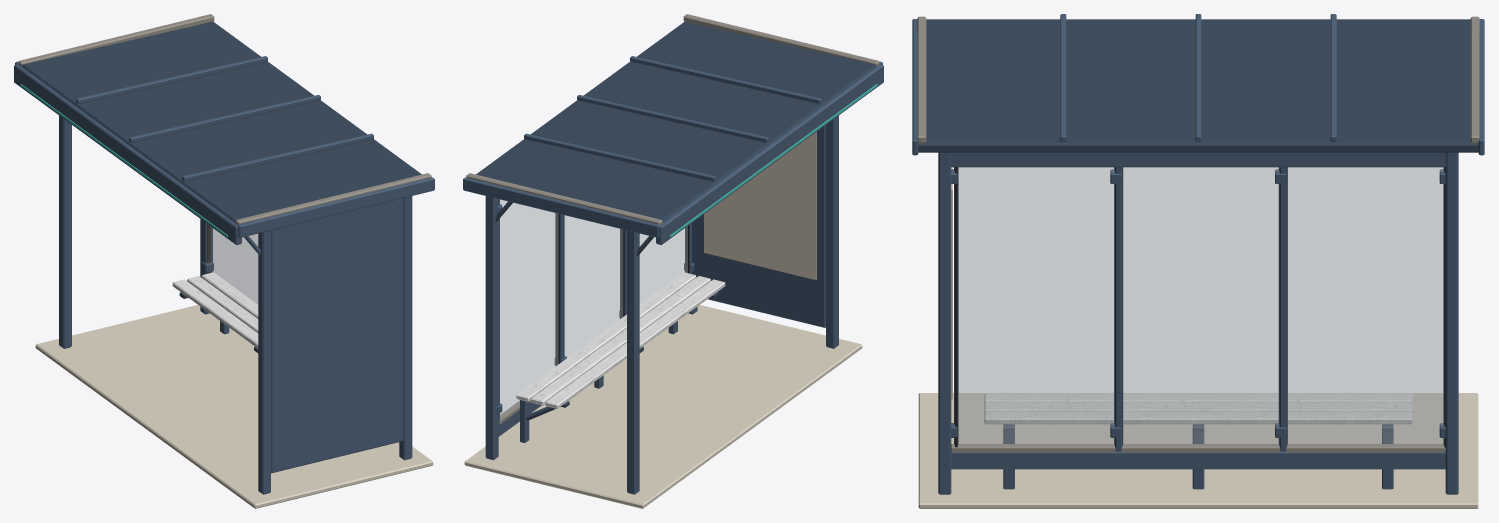
File: shelter-portable.glb
3 renders of one model, left to right at view 1: azimuth 30°, elevation 25°; view 2: azimuth 150°, elevation 25°; view 3: azimuth 270°, elevation 25°, orthographic. The views are drawn at different scales.
Visible parts, largest first — view 1: shelter.shelter.roof.folded-pan.12, shelter.shelter.end.5, shelter.shelter.slab.0, shelter.shelter.post.3, shelter.shelter.post.1, shelter.shelter.rear.frosted-pane-0.7, shelter.shelter.post.4, shelter.shelter.perch.slat-0.17, shelter.shelter.perch.slat-1.18, shelter.shelter.perch.slat-2.19; view 2: shelter.shelter.roof.folded-pan.12, shelter.shelter.slab.0, shelter.shelter.rear.frosted-pane-0.7, shelter.shelter.poster.6, shelter.shelter.end.5, shelter.shelter.rear.frosted-pane-1.8, shelter.shelter.post.2, shelter.shelter.post.1, shelter.shelter.post.3, shelter.shelter.rear.frosted-pane-2.9, shelter.shelter.perch.slat-0.17, shelter.shelter.perch.slat-2.19 (+3 smaller); view 3: shelter.shelter.roof.folded-pan.12, shelter.shelter.rear.frosted-pane-2.9, shelter.shelter.rear.frosted-pane-0.7, shelter.shelter.rear.frosted-pane-1.8, shelter.shelter.slab.0, shelter.shelter.rear.original-kick-and-mullions.10, shelter.shelter.roof.primary-frame.11, shelter.shelter.perch.slat-2.19, shelter.shelter.rear.glazing-beads.13, shelter.shelter.post.2, shelter.shelter.post.4, shelter.shelter.perch.slat-1.18 (+1 smaller).
Boxes of the visible parts, <box> form: shelter.shelter.roof.folded-pan.12: <box>14,14,434,244</box>; shelter.shelter.end.5: <box>271,198,403,473</box>; shelter.shelter.slab.0: <box>35,305,433,508</box>; shelter.shelter.post.3: <box>258,230,270,494</box>; shelter.shelter.post.1: <box>59,115,71,348</box>; shelter.shelter.rear.frosted-pane-0.7: <box>204,222,258,304</box>; shelter.shelter.post.4: <box>399,196,412,460</box>; shelter.shelter.perch.slat-0.17: <box>172,279,258,348</box>; shelter.shelter.perch.slat-1.18: <box>187,276,258,332</box>; shelter.shelter.perch.slat-2.19: <box>201,272,258,318</box>; shelter.shelter.roof.folded-pan.12: <box>463,14,883,244</box>; shelter.shelter.slab.0: <box>464,305,862,508</box>; shelter.shelter.rear.frosted-pane-0.7: <box>498,199,562,423</box>; shelter.shelter.poster.6: <box>704,132,816,279</box>; shelter.shelter.end.5: <box>692,125,825,327</box>; shelter.shelter.rear.frosted-pane-1.8: <box>562,215,626,357</box>; shelter.shelter.post.2: <box>485,196,498,460</box>; shelter.shelter.post.1: <box>627,230,639,494</box>; shelter.shelter.post.3: <box>826,115,838,348</box>; shelter.shelter.rear.frosted-pane-2.9: <box>639,223,691,304</box>; shelter.shelter.perch.slat-0.17: <box>545,279,725,408</box>; shelter.shelter.perch.slat-2.19: <box>516,272,696,401</box>; shelter.shelter.roof.folded-pan.12: <box>912,14,1484,155</box>; shelter.shelter.rear.frosted-pane-2.9: <box>954,167,1115,447</box>; shelter.shelter.rear.frosted-pane-0.7: <box>1286,167,1445,447</box>; shelter.shelter.rear.frosted-pane-1.8: <box>1122,167,1279,446</box>; shelter.shelter.slab.0: <box>918,393,1478,508</box>; shelter.shelter.rear.original-kick-and-mullions.10: <box>951,167,1445,469</box>; shelter.shelter.roof.primary-frame.11: <box>950,152,1446,167</box>; shelter.shelter.perch.slat-2.19: <box>984,411,1412,424</box>; shelter.shelter.rear.glazing-beads.13: <box>951,169,1445,452</box>; shelter.shelter.post.2: <box>1445,152,1458,494</box>; shelter.shelter.post.4: <box>938,152,951,494</box>; shelter.shelter.perch.slat-1.18: <box>984,402,1412,412</box>.
Bounding box in the file's own units: 1.79 × 2.52 × 3.48.
11 materials, 1 textured.
